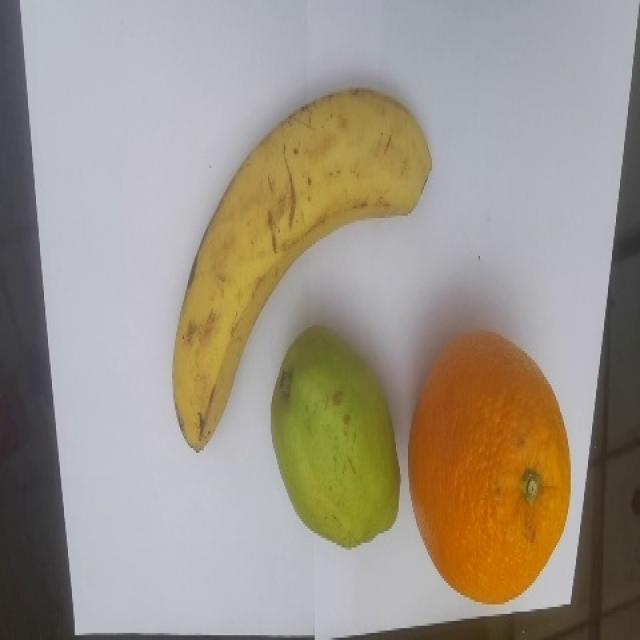Banana: (171, 86, 432, 453)
Orange: (407, 329, 571, 605)
